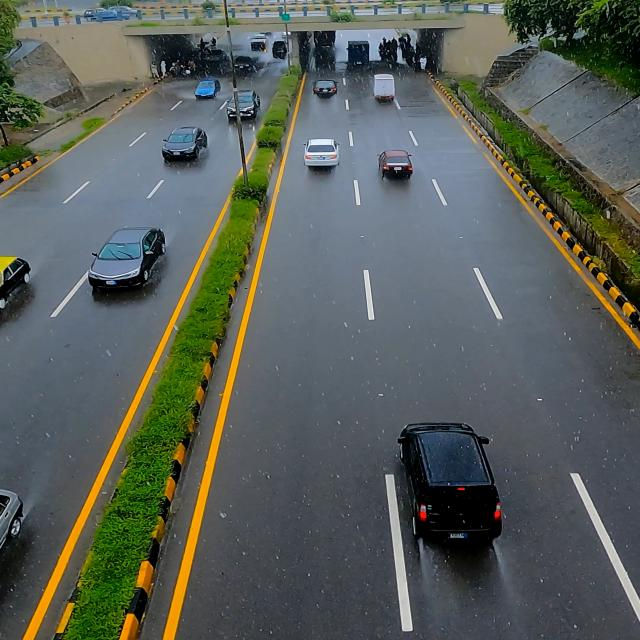Vehicle: (390, 418, 505, 548), (84, 224, 166, 296), (157, 122, 206, 171), (372, 148, 413, 184), (300, 136, 340, 170), (227, 90, 259, 124), (367, 70, 394, 108)
